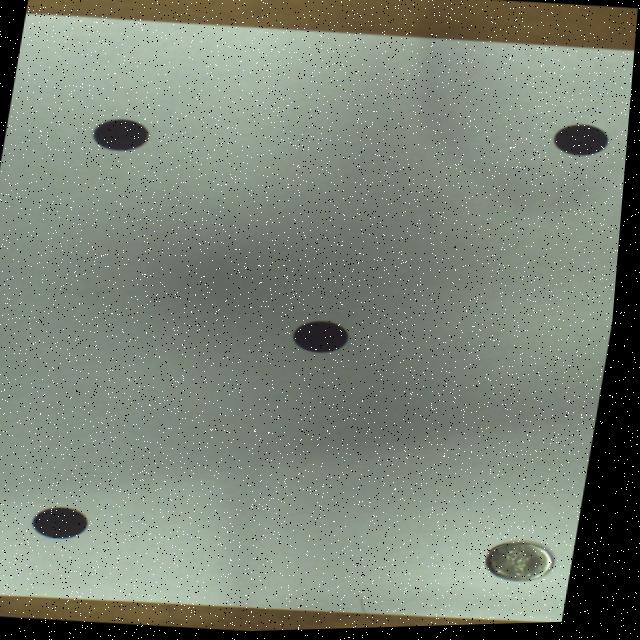space: (94, 119, 150, 152), (298, 323, 354, 355), (40, 508, 95, 539), (556, 128, 609, 159)
tail1bath: (494, 545, 561, 584)
